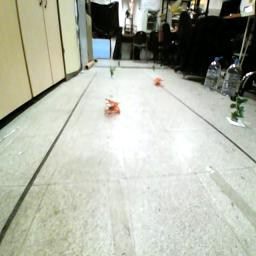herb: (230, 95, 249, 123), (110, 66, 118, 77)
wild: (104, 98, 123, 115), (155, 79, 166, 88)
